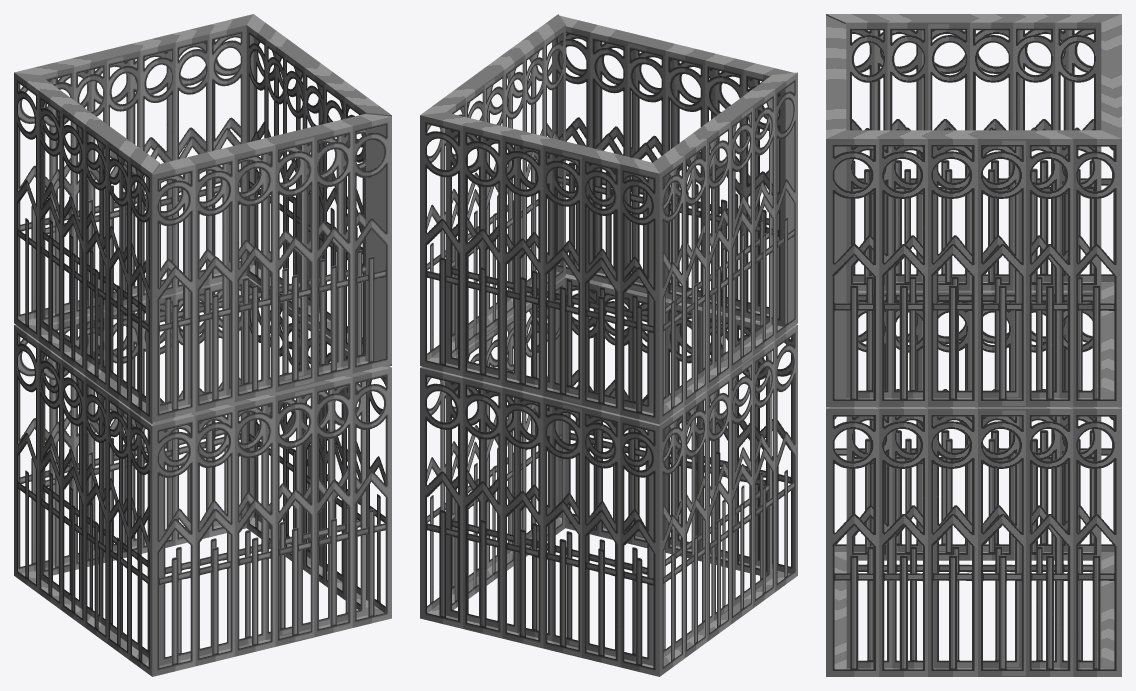
File: cAJA eLEVADOR.fbx
3 views of the same model, side by side, from view 1: azimuth 30°, elevation 25°; view 2: azimuth 150°, elevation 25°; view 3: azimuth 270°, elevation 25° (orthographic). The views are drawn at different scales.
Parts seen in each view (by area): view 1: Cube, Cube.001, Cube.002; view 2: Cube, Cube.001, Cube.002; view 3: Cube.001, Cube, Cube.002.
Part boxes in pixels (x1,y1,x2,y2): Cube: (14, 276, 391, 676); Cube.001: (14, 14, 391, 424); Cube.002: (146, 114, 391, 422); Cube: (420, 274, 797, 676); Cube.001: (420, 14, 797, 424); Cube.002: (552, 15, 794, 326); Cube.001: (826, 14, 1121, 406); Cube: (826, 290, 1121, 676); Cube.002: (826, 15, 846, 399).
Bounding box in the file's own units: 200 × 401 × 200.
Materials: 3 (3 with a texture image).
